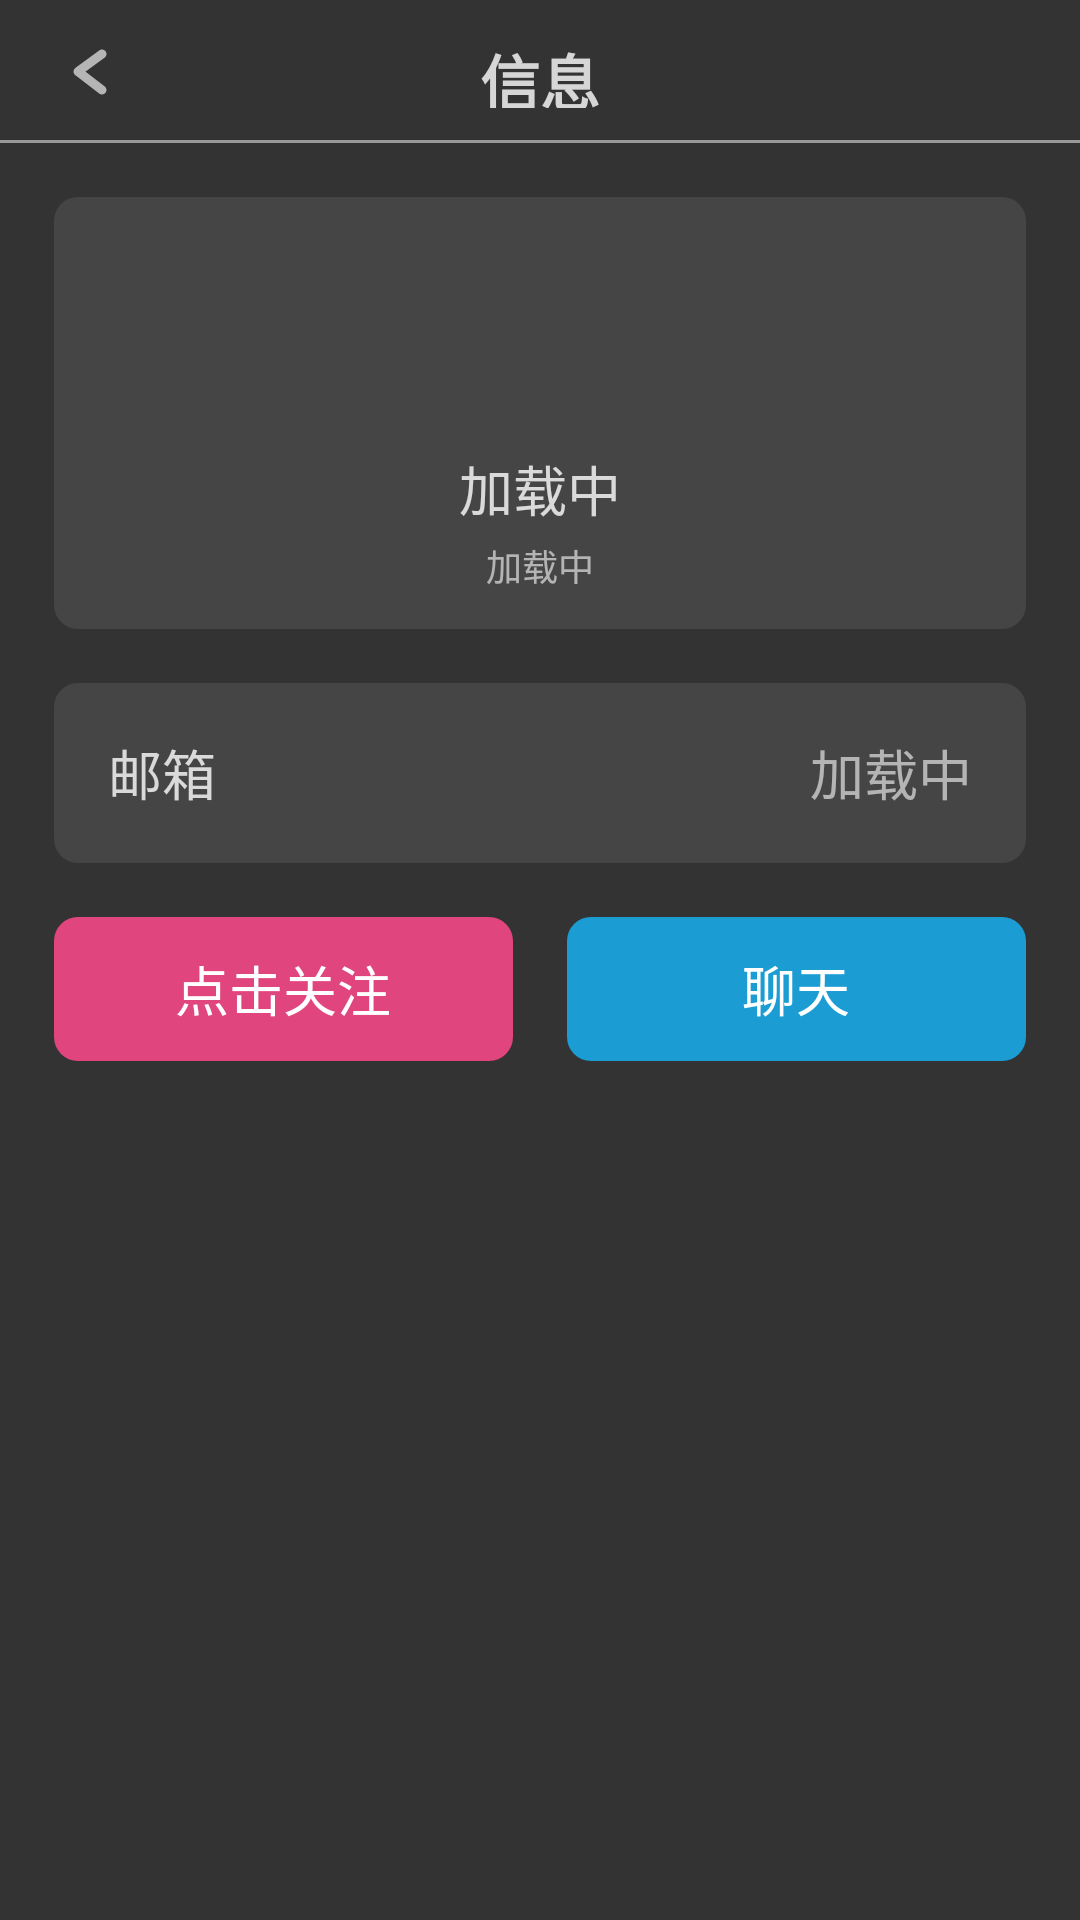

Screen size 1080x1920. Icon name, then its center in pixels as (x=x, y=y):
back: (x=90, y=72)
